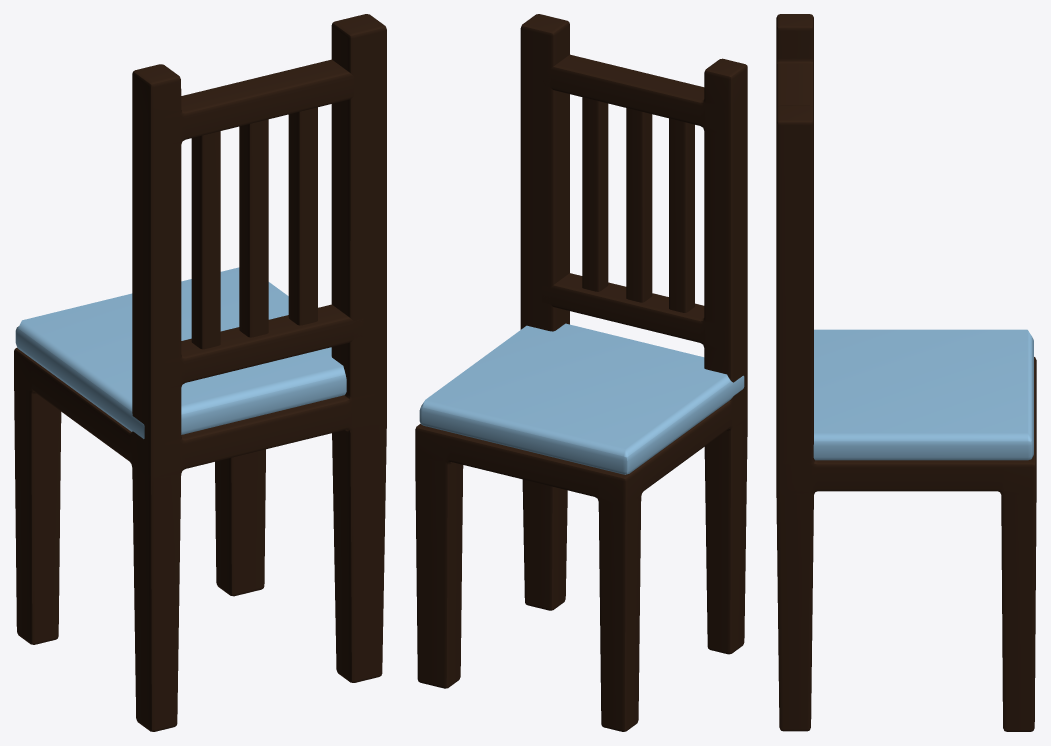
File: Chair.fbx
3 renders of one model, left to right at view 1: azimuth 30°, elevation 25°; view 2: azimuth 150°, elevation 25°; view 3: azimuth 270°, elevation 25°, orthographic. The views are drawn at different scales.
Parts seen in each view (by area): view 1: pCube20, pCube21, pCube22, pCube24, pCube23; view 2: pCube20, pCube21, pCube24, pCube23, pCube22; view 3: pCube20, pCube21.
Boxes of the visible parts, x1,y1,x2,y2 form: pCube20: (14,14,386,731); pCube21: (15,267,346,438); pCube22: (191,131,220,349); pCube24: (239,119,268,337); pCube23: (288,107,317,325); pCube20: (415,14,747,731); pCube21: (419,323,744,474); pCube24: (626,108,652,302); pCube23: (582,97,608,291); pCube22: (669,118,694,312); pCube20: (776,14,1036,731); pCube21: (813,329,1033,460).
Size of the model in its own units: 1 by 2.61 by 1.01.
